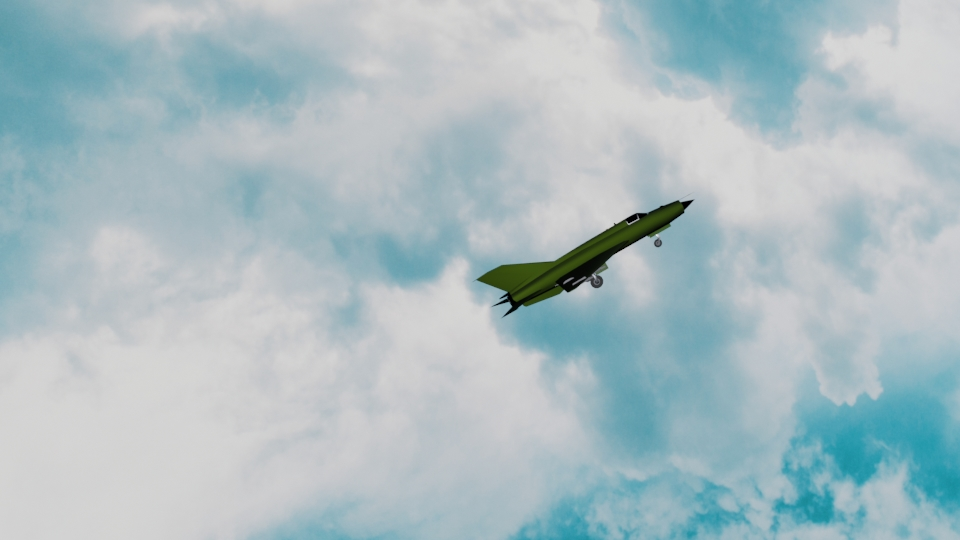plane: (474, 194, 698, 319)
